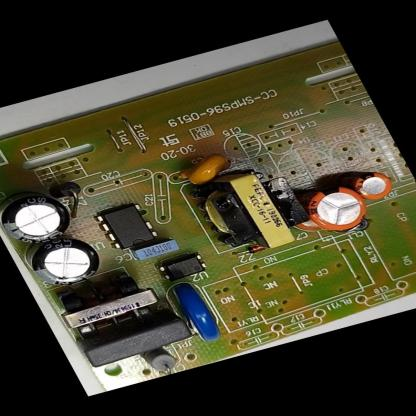Cap1: (292, 178, 374, 238)
Cap2: (349, 168, 399, 203)
Cap3: (20, 231, 110, 293)
Cap4: (0, 187, 81, 249)
MOSFET: (93, 200, 161, 251)
Mov: (172, 280, 226, 343)
Resistor: (136, 345, 184, 379)
Transformer: (183, 160, 318, 261), (48, 270, 167, 340)
